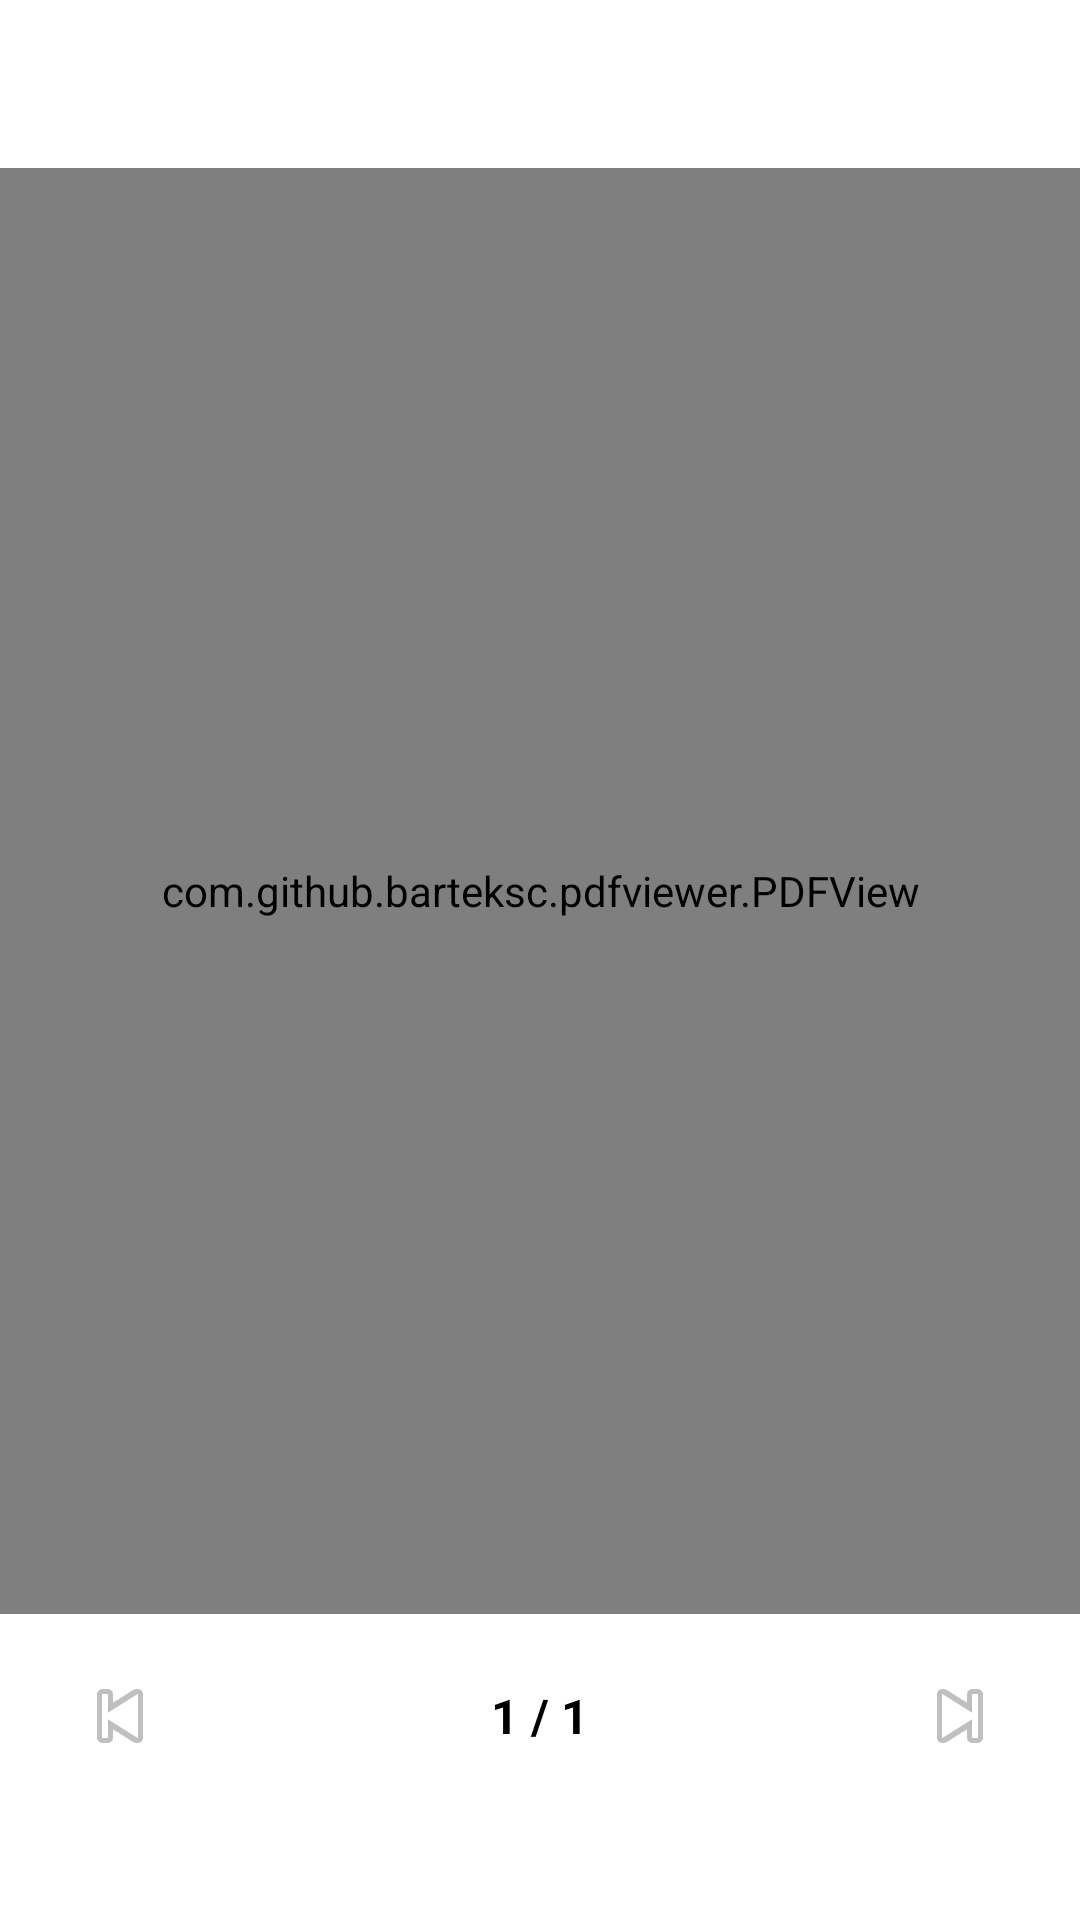

Point at icon controls on the screen. Image size 1080x1920, points as point (x, y).
Prethodna strana: point (120, 1716)
Sledeća strana: point (960, 1716)
